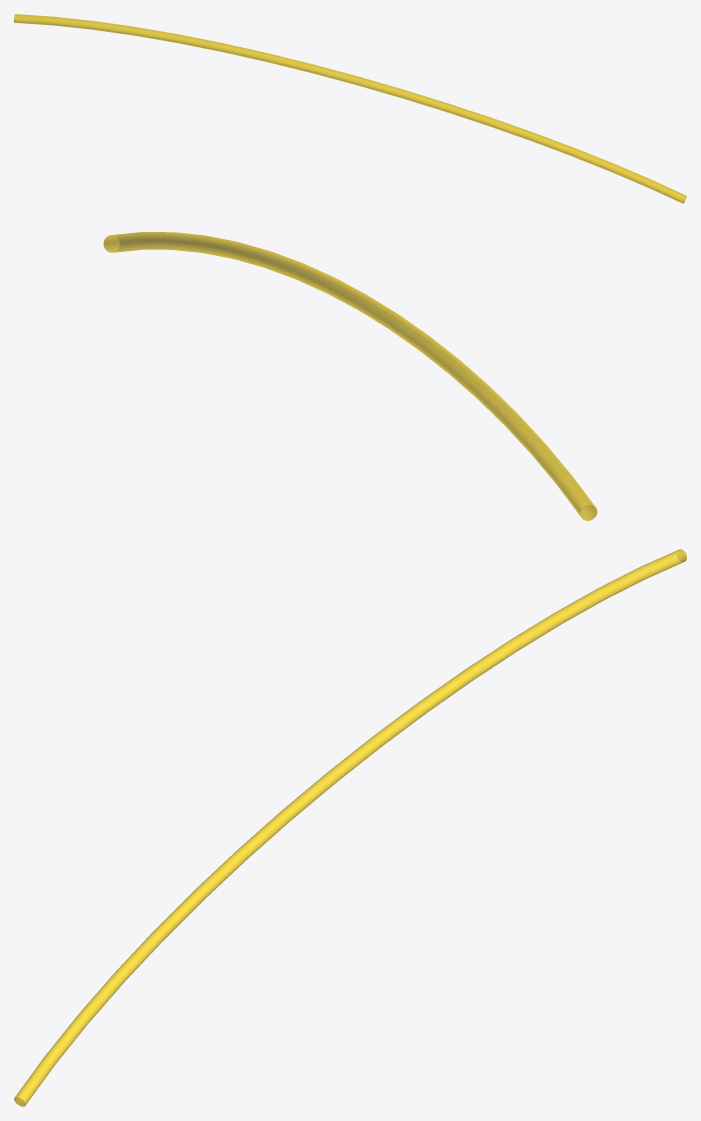
Rendered from Event_402970704_track_69.fbx.
3 views of the same model, one above another, from view 1: azimuth 30°, elevation 25°; view 2: azimuth 150°, elevation 25°; view 3: azimuth 270°, elevation 25° (orthographic). The views are drawn at different scales.
Parts seen in each view (by area): view 1: Model; view 2: Model; view 3: Model.
Boxes of the visible parts, x1,y1,x2,y2 form: Model: (14, 14, 686, 203); Model: (103, 232, 597, 520); Model: (14, 549, 686, 1106).
Bounding box in the file's own units: 2.39 × 0.7091 × 1.97.
